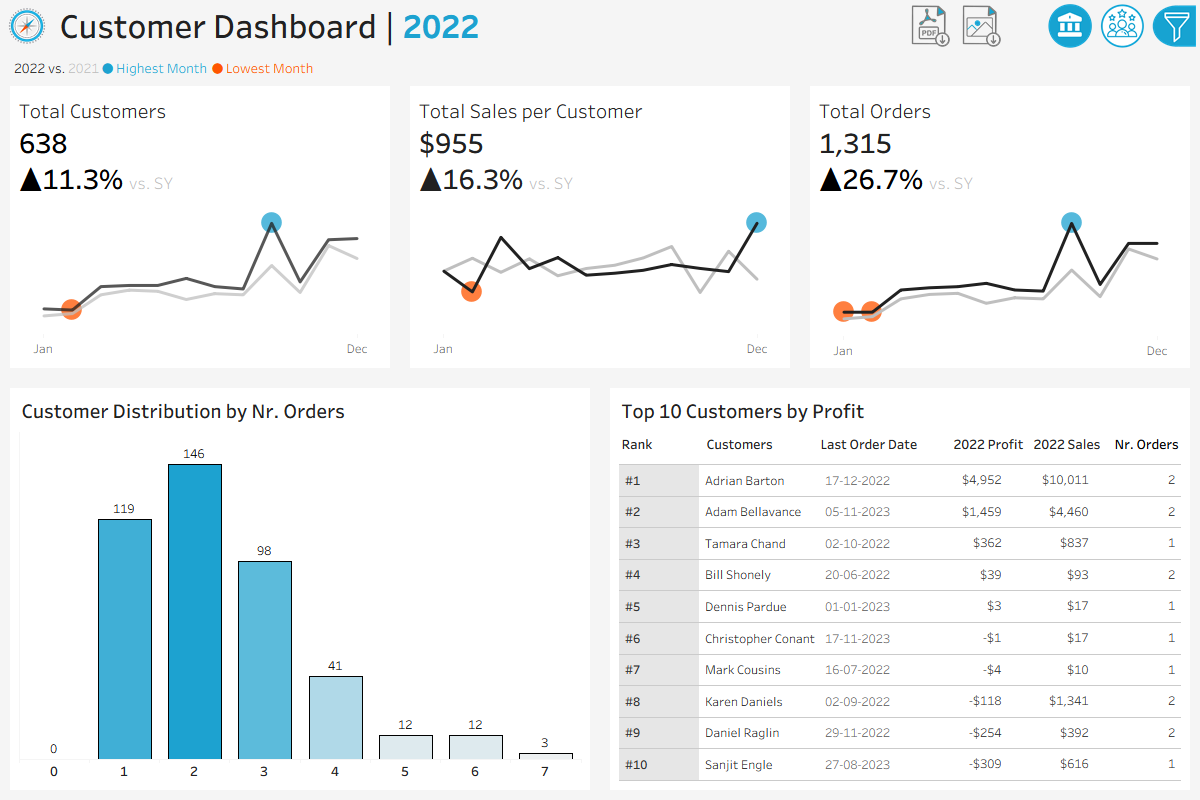

This screenshot's page, from the dashboard's own definition file:
{"tool":"tableau","page":{"name":"Customers Dashboard","canvas":[1200,800],"ordinal":0},"visuals":[{"type":"image","param":"Image/Icon - Logo.png","box":[0,0,53.3,51]},{"type":"text","box":[53.3,0,850,51]},{"type":"dashboard-object","box":[903.3,0,51,51]},{"type":"dashboard-object","box":[954.3,0,51,51]},{"type":"blank","box":[1008.7,0,35,51]},{"type":"dashboard-object","box":[1044,0,52,51]},{"type":"dashboard-object","box":[1096,0,52,51]},{"type":"dashboard-object","box":[1148,0,52,51]},{"type":"worksheet","title":"Legend KPI","mark":"Automatic","box":[0,51,1200,35]},{"type":"worksheet","title":"KPI Customers","mark":"Line","rows":["Min/Max Profit (copy)_0895619974606859"],"cols":["Order Date"],"box":[0,86,400,292]},{"type":"worksheet","title":"KPI Sales per Customer","mark":"Line","rows":["Min/Max Orders (copy)_0886274242637831"],"cols":["Order Date"],"box":[400,86,400,292]},{"type":"worksheet","title":"KPI Orders","mark":"Line","rows":["Min/Max Customers (copy)_0886274241306625"],"cols":["Order Date"],"box":[800,86,400,292]},{"type":"parameter","param":"[Parameters].[Parameter 1]","box":[939,87,242,60]},{"type":"parameter","param":"[Parameters].[Choose Primary Year (copy)_0336792909492229]","box":[939,147,242,60]},{"type":"text","box":[939,207,242,50]},{"type":"filter","title":"KPI Customers","param":"[federated.0j6tzli15aromr19julgg1s33fei].[none:Category:nk]","box":[939,257,242,110]},{"type":"filter","title":"Customer Distribution","param":"[federated.0j6tzli15aromr19julgg1s33fei].[none:Sub-Category:nk]","box":[939,367,242,60]},{"type":"text","box":[15,393,570,35]},{"type":"text","box":[615,393,570,35]},{"type":"text","box":[939,427,242,50]},{"type":"worksheet","title":"Customer Distribution","mark":"Bar","rows":["PY Profit (copy)_0895619974057992"],"cols":["Calculation_0886274246070288"],"box":[15,428,570,357]},{"type":"text","box":[615,428,85,32]},{"type":"text","box":[700,428,114,32]},{"type":"text","box":[814,428,133,32]},{"type":"text","box":[947,428,80,32]},{"type":"text","box":[1027,428,81,32]},{"type":"text","box":[1108,428,77,32]},{"type":"worksheet","title":"Top Customers","mark":"Automatic","rows":["Calculation_0886274249965588","Customer Name","Order Date"],"box":[615,460,570,325]},{"type":"filter","title":"KPI Customers","param":"[federated.0j6tzli15aromr19julgg1s33fei].[none:Region:nk]","box":[939,477,242,130]},{"type":"filter","title":"KPI Customers","param":"[federated.0j6tzli15aromr19julgg1s33fei].[none:State:nk]","box":[939,607,242,60]},{"type":"filter","title":"KPI Customers","param":"[federated.0j6tzli15aromr19julgg1s33fei].[none:City:nk]","box":[939,667,242,60]}]}

Visuals, with their boxes in screenshot pixels (x1, y1, x2, y2), scaled from the page's 1200x800 canvas onto the 1200x800 screenshot:
image: select_region(0, 0, 53, 51)
text: select_region(53, 0, 903, 51)
dashboard-object: select_region(903, 0, 954, 51)
dashboard-object: select_region(954, 0, 1005, 51)
blank: select_region(1009, 0, 1044, 51)
dashboard-object: select_region(1044, 0, 1096, 51)
dashboard-object: select_region(1096, 0, 1148, 51)
dashboard-object: select_region(1148, 0, 1199, 51)
"Legend KPI" worksheet: select_region(0, 51, 1199, 86)
"KPI Customers" worksheet (Line marks): select_region(0, 86, 400, 378)
"KPI Sales per Customer" worksheet (Line marks): select_region(400, 86, 800, 378)
"KPI Orders" worksheet (Line marks): select_region(800, 86, 1199, 378)
parameter: select_region(939, 87, 1181, 147)
parameter: select_region(939, 147, 1181, 207)
text: select_region(939, 207, 1181, 257)
"KPI Customers" filter: select_region(939, 257, 1181, 367)
"Customer Distribution" filter: select_region(939, 367, 1181, 427)
text: select_region(15, 393, 585, 428)
text: select_region(615, 393, 1185, 428)
text: select_region(939, 427, 1181, 477)
"Customer Distribution" worksheet (Bar marks): select_region(15, 428, 585, 785)
text: select_region(615, 428, 700, 460)
text: select_region(700, 428, 814, 460)
text: select_region(814, 428, 947, 460)
text: select_region(947, 428, 1027, 460)
text: select_region(1027, 428, 1108, 460)
text: select_region(1108, 428, 1185, 460)
"Top Customers" worksheet: select_region(615, 460, 1185, 785)
"KPI Customers" filter: select_region(939, 477, 1181, 607)
"KPI Customers" filter: select_region(939, 607, 1181, 667)
"KPI Customers" filter: select_region(939, 667, 1181, 727)
